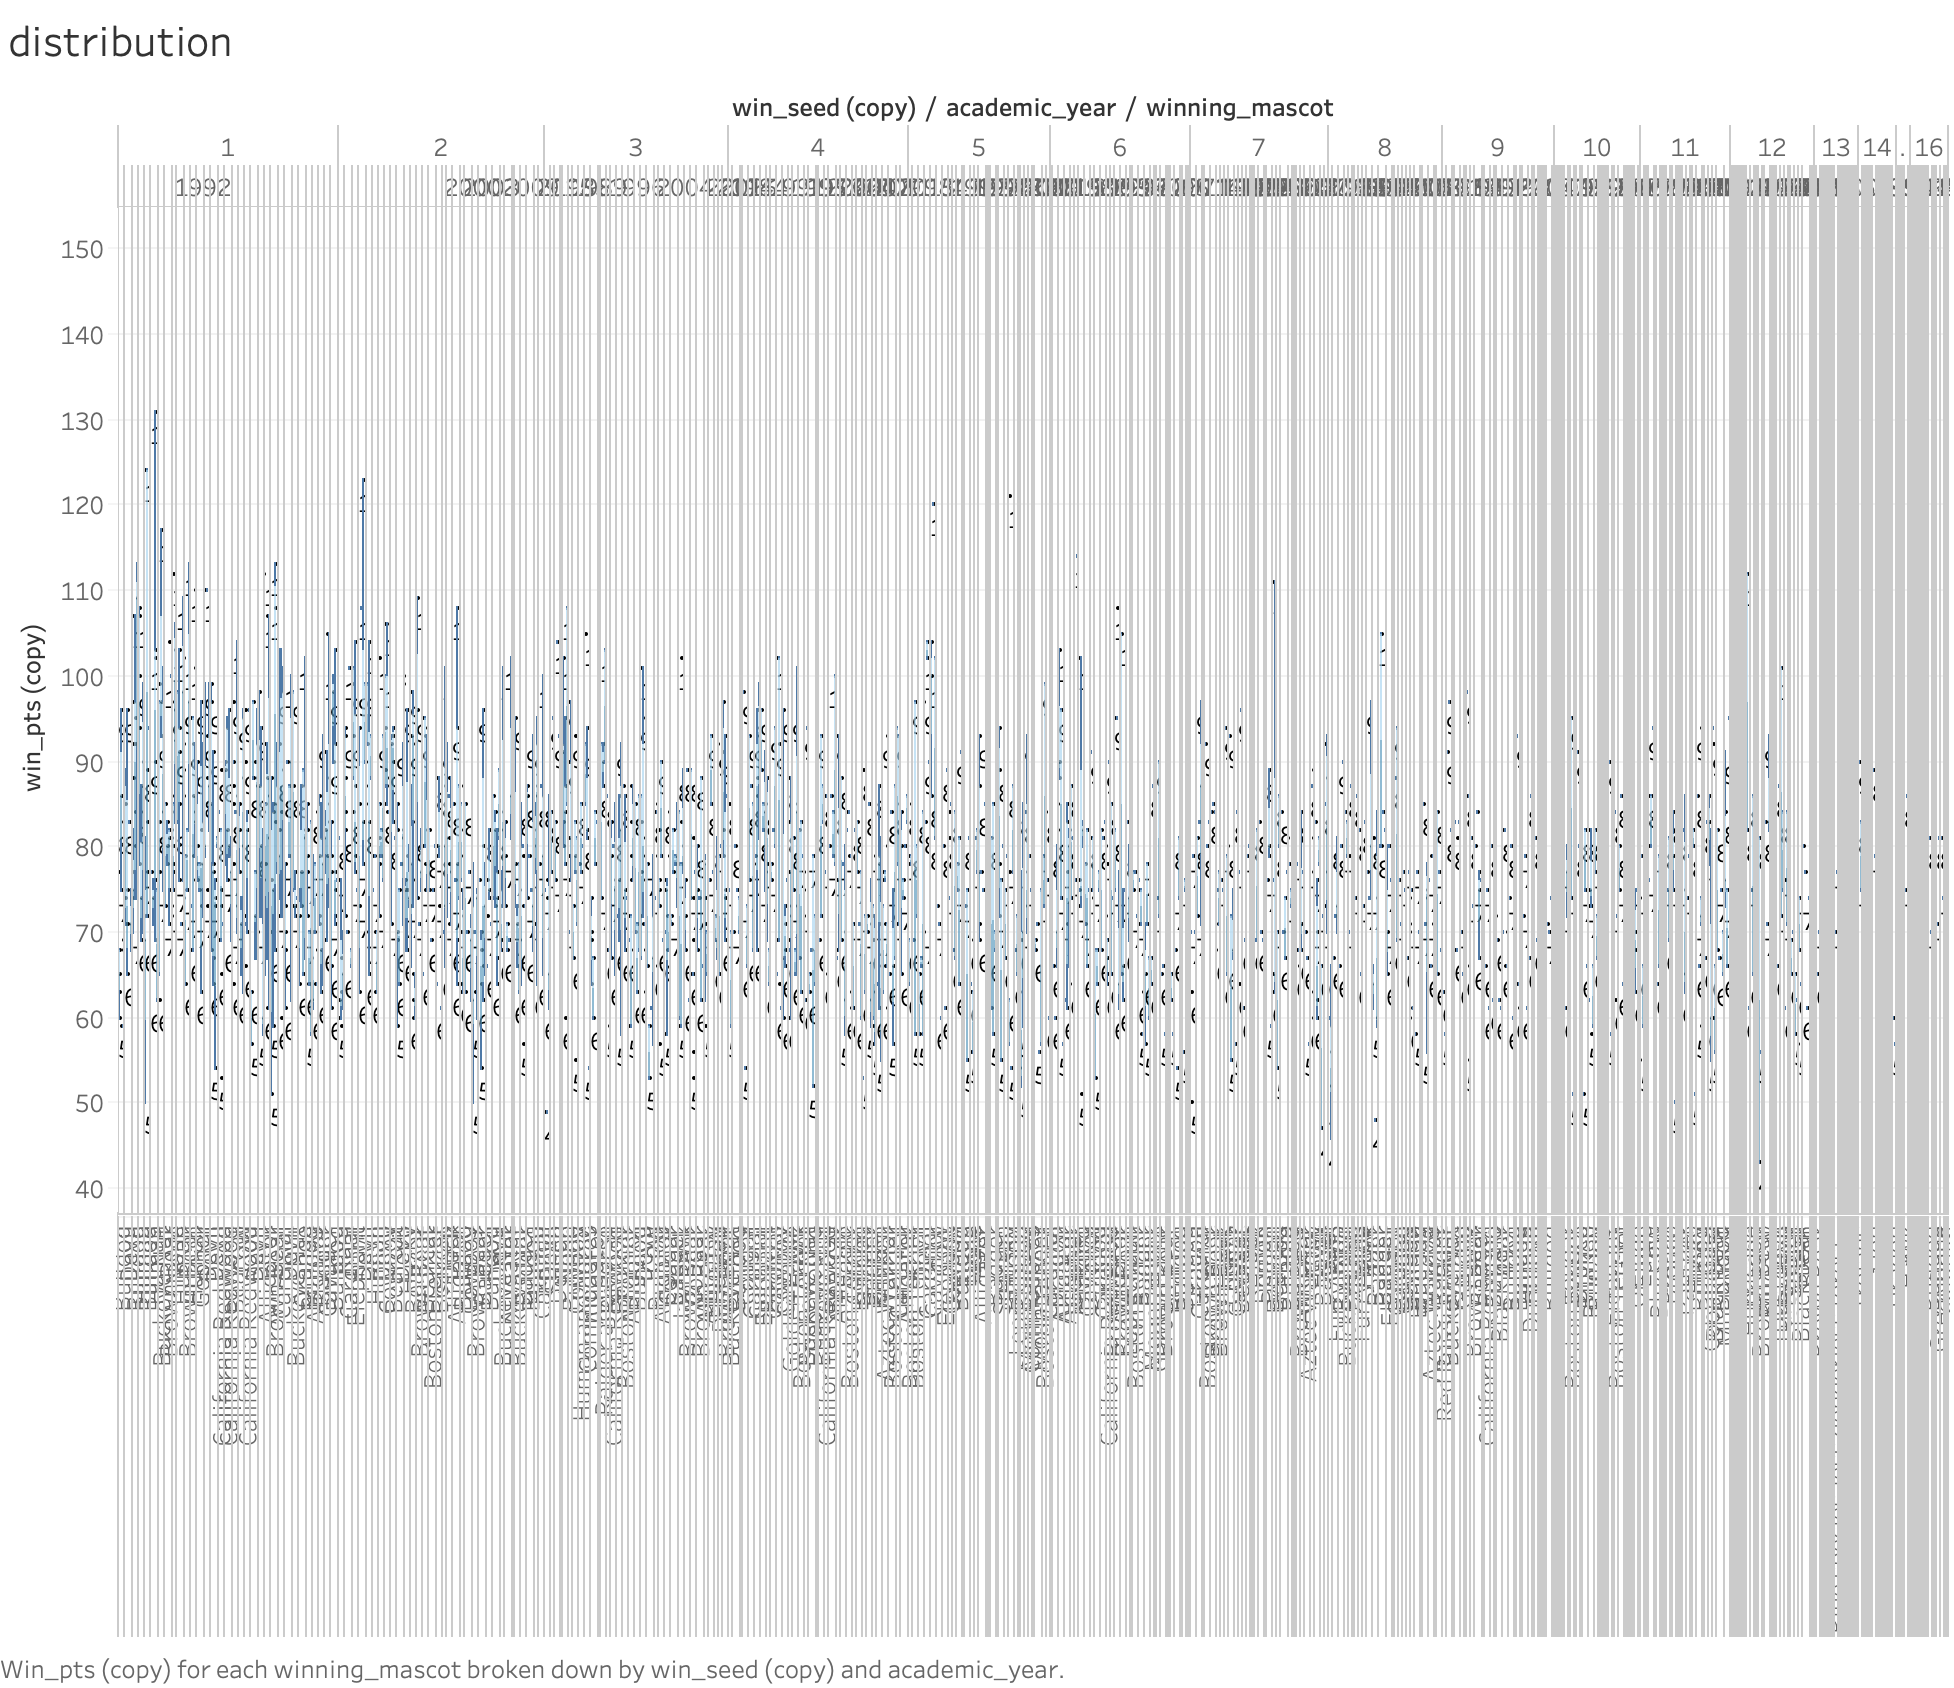

This screenshot's page, from the dashboard's own definition file:
{"tool":"tableau","page":{"name":"Dashboard 3","canvas":[1000,800],"ordinal":2},"visuals":[{"type":"worksheet","title":"distribution","mark":"Circle","rows":["win_pts (copy)_27795675477643266"],"cols":["win_seed (copy)_27795675477594113","academic_year","winning_mascot"],"box":[8,8,984,784]}]}

Visuals, with their boxes on the page's 1000x800 design canvas (x1, y1, x2, y2). These are canvas units, not pixel positions in the 1954x1688 screenshot, which may show the page scaled, cropped or inside an application window:
"distribution" worksheet (Circle marks): x1=8, y1=8, x2=992, y2=792
